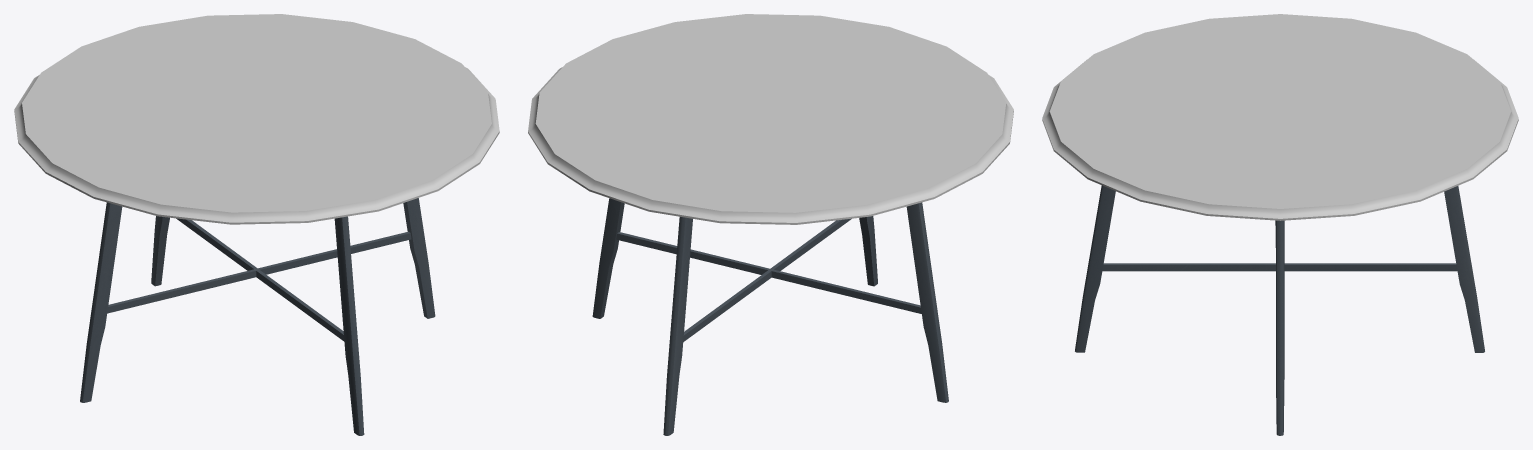
The model's file is Mini-Table-007.fbx.
3 renders of one model, left to right at view 1: azimuth 30°, elevation 25°; view 2: azimuth 150°, elevation 25°; view 3: azimuth 270°, elevation 25°, orthographic. The views are drawn at different scales.
Visible parts, largest first — view 1: Mini Table.007; view 2: Mini Table.007; view 3: Mini Table.007.
Boxes of the visible parts, bbox=[...] form: Mini Table.007: bbox=[14, 14, 499, 435]; Mini Table.007: bbox=[528, 14, 1013, 435]; Mini Table.007: bbox=[1042, 14, 1518, 435].
Size of the model in its own units: 113 by 62.57 by 113.
